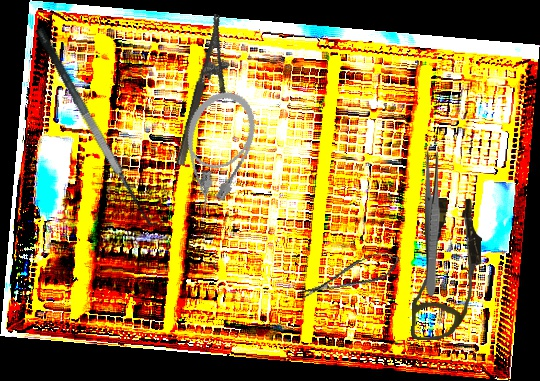Cannula: (161, 82, 267, 222), (411, 197, 483, 342)
Dressing Forceps: (425, 150, 440, 296)
Micro Scissor: (296, 247, 404, 305)
Needle Holder: (174, 13, 245, 172)
Spatula Surgical: (33, 17, 168, 233)
